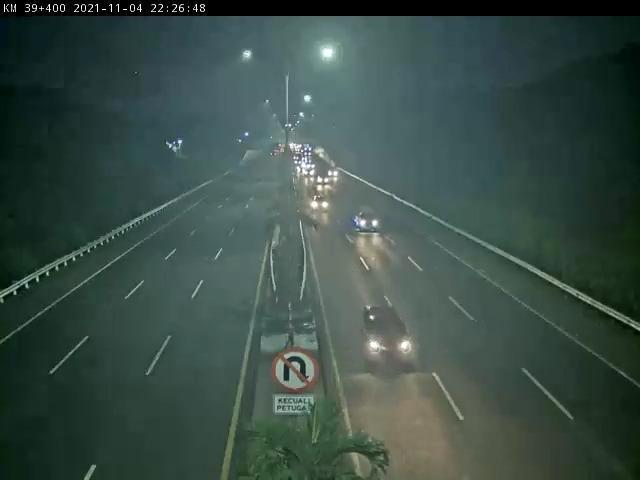car: (360, 292, 420, 370)
